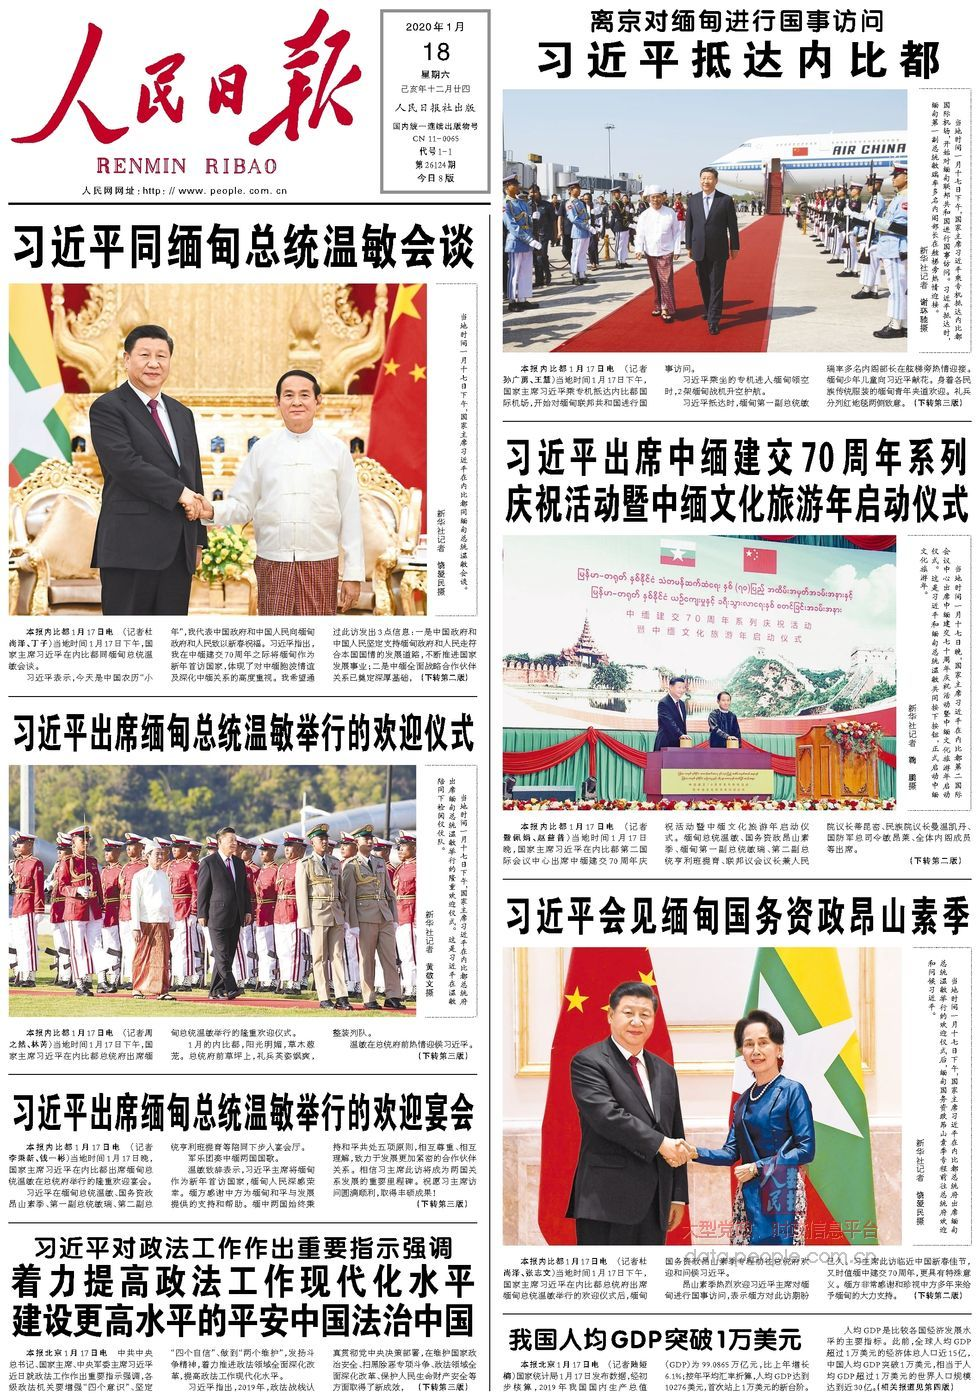pic: (5, 278, 433, 620), (499, 941, 906, 1248), (497, 531, 903, 813), (497, 84, 914, 357), (5, 760, 421, 1019)
